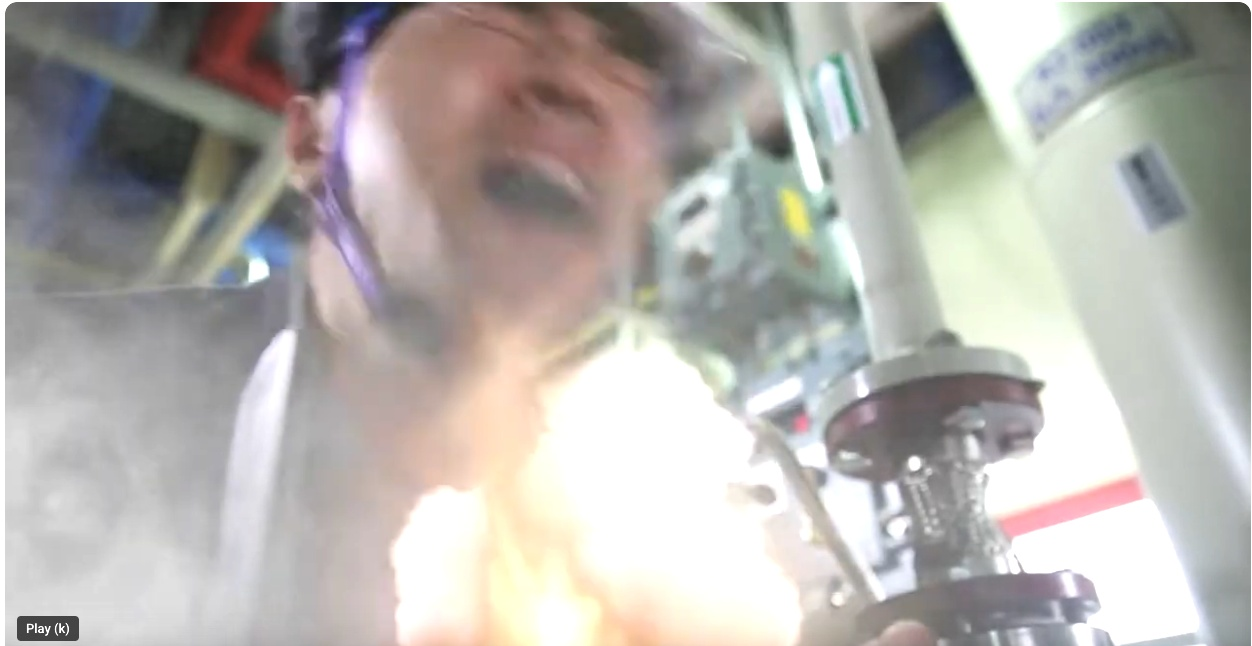smoke: (305, 323, 826, 646)
